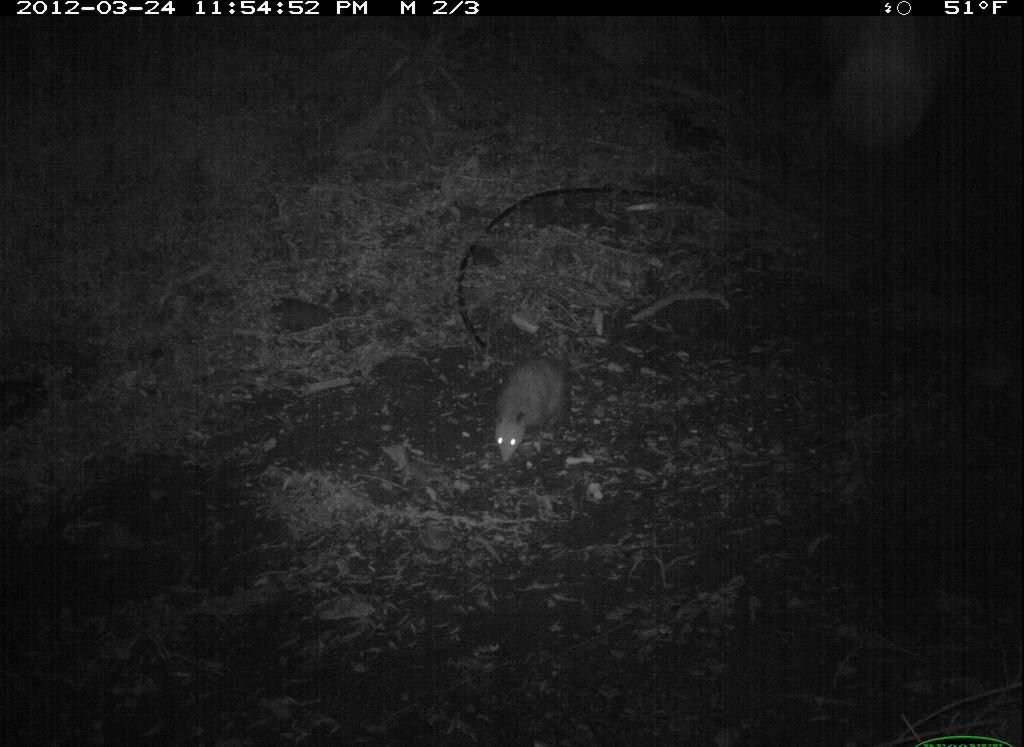opossum: (464, 340, 591, 464)
